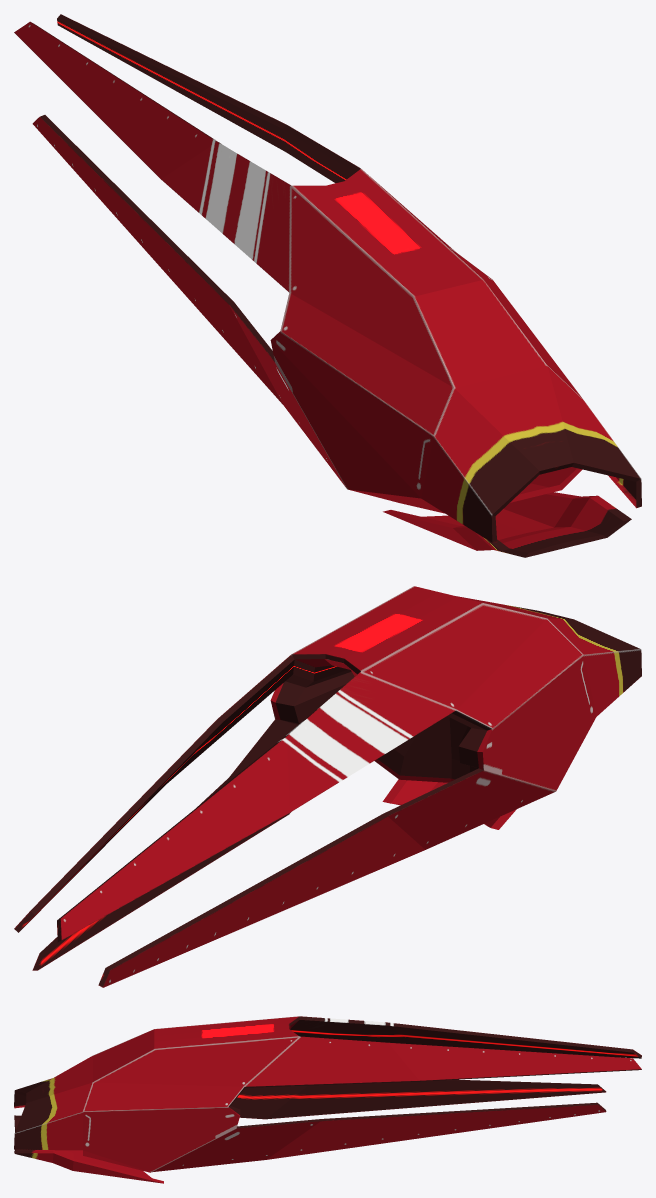
File: Renaissance.Gun.fbx
3 renders of one model, top to bottom at view 1: azimuth 30°, elevation 25°; view 2: azimuth 150°, elevation 25°; view 3: azimuth 270°, elevation 25°, orthographic. The views are drawn at different scales.
Visible parts, largest first — view 1: Gun; view 2: Gun; view 3: Gun.
Boxes of the visible parts, x1,y1,x2,y2 form: Gun: (14, 14, 641, 557); Gun: (14, 586, 641, 987); Gun: (14, 1016, 641, 1183).
Size of the model in its own units: 32.1 by 35.37 by 139.
1 material, 1 textured.
